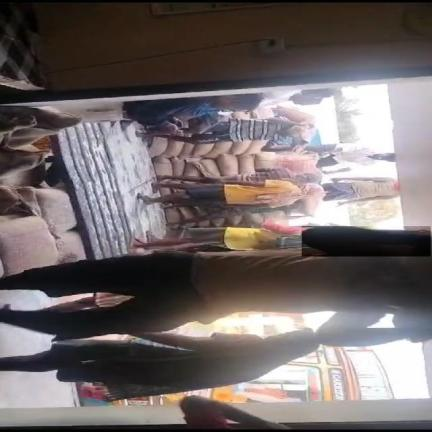Zone-Counting: (161, 107, 314, 147)
